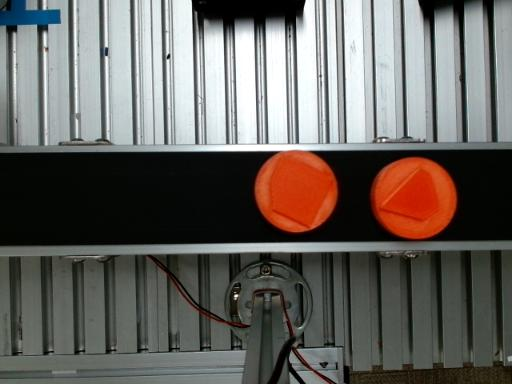Not_Square: (268, 153, 335, 228), (377, 166, 441, 223)
Orange_Waper: (370, 157, 457, 239), (254, 150, 338, 232)
